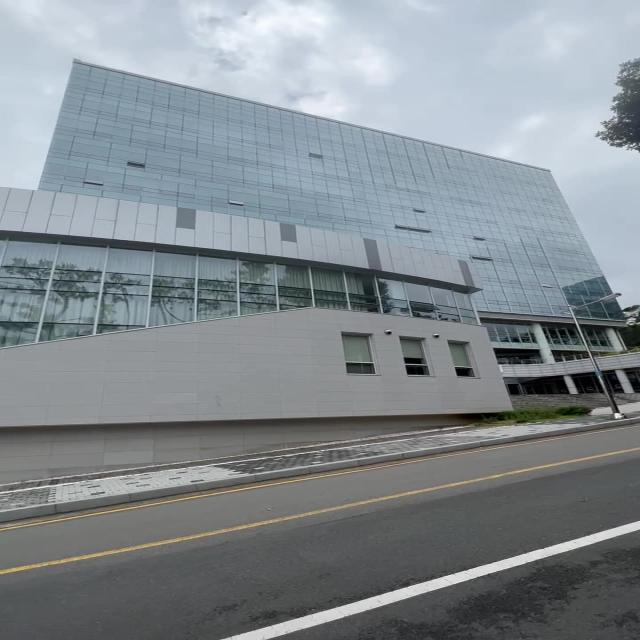building: (32, 63, 603, 410)
